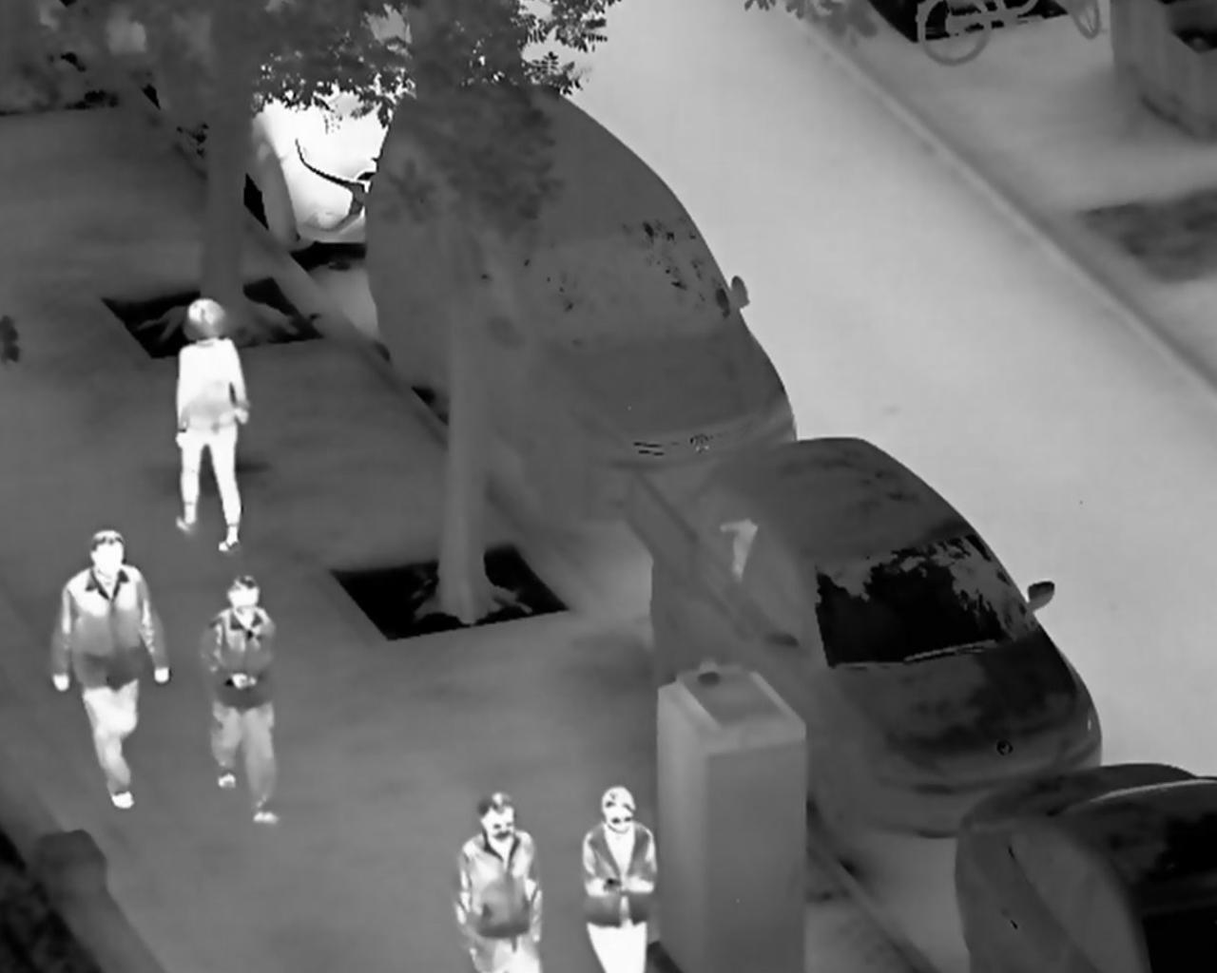person: (48, 526, 172, 813), (166, 296, 252, 556), (199, 574, 281, 829), (455, 788, 542, 973), (576, 784, 661, 973)
